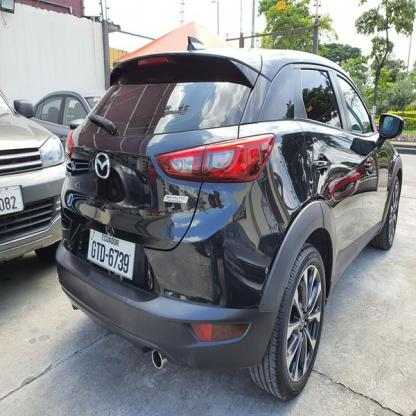Placa: (83, 226, 139, 278)
